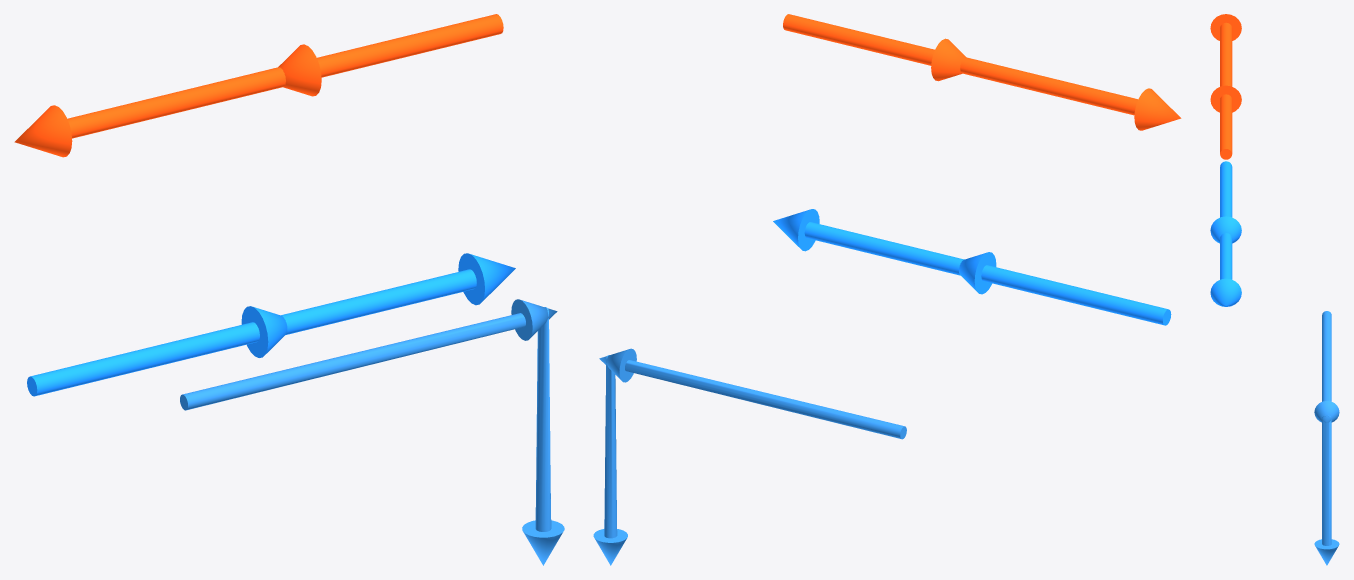
The model's file is membrane_filter_flow.glb.
3 views of the same model, side by side, from view 1: azimuth 30°, elevation 25°; view 2: azimuth 150°, elevation 25°; view 3: azimuth 270°, elevation 25° (orthographic). The views are drawn at different scales.
Visible parts, largest first — view 1: retentate, feed, permeate.001; view 2: retentate, feed, permeate.001; view 3: permeate.001, feed, retentate.
Boxes of the visible parts, x1,y1,x2,y2 form: retentate: (14, 14, 503, 157); feed: (27, 253, 515, 396); permeate.001: (180, 299, 564, 565); retentate: (783, 14, 1181, 130); feed: (773, 209, 1171, 325); permeate.001: (593, 348, 906, 565); permeate.001: (1314, 311, 1339, 565); feed: (1210, 161, 1241, 306); retentate: (1210, 14, 1241, 159).
Size of the model in its own units: 1.07 by 1.06 by 0.3202.
